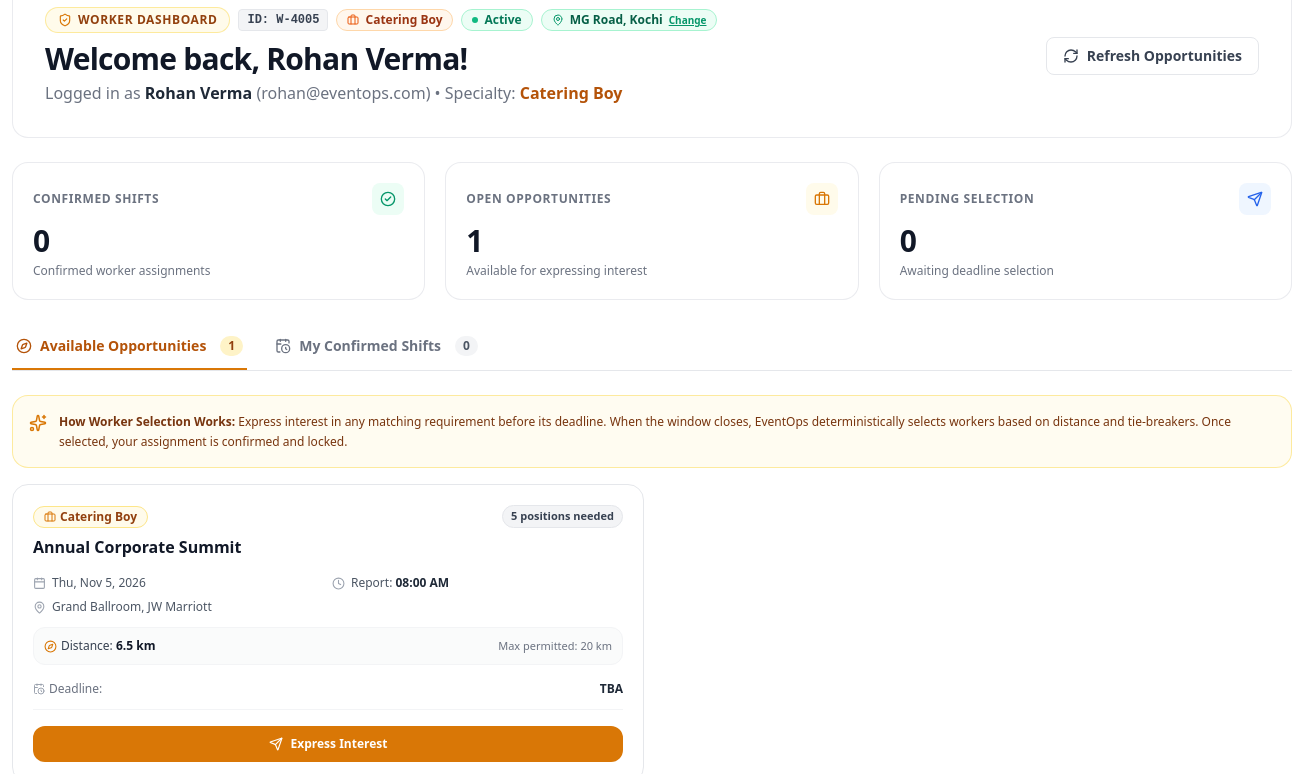
Scenario: Worker Selection Engine Frontend UI Tests › WorkerDashboard Opportunity & Express Interest › allows a worker to express interest in an open opportunity
The width and height of the screenshot is (1292, 774).
Check: the heading "Annual Corporate Summit" is shown, box [33,535,241,559]
Click the button "Express Interest". click: click(328, 744)
box: [33,726,623,762]
(page scrolled)
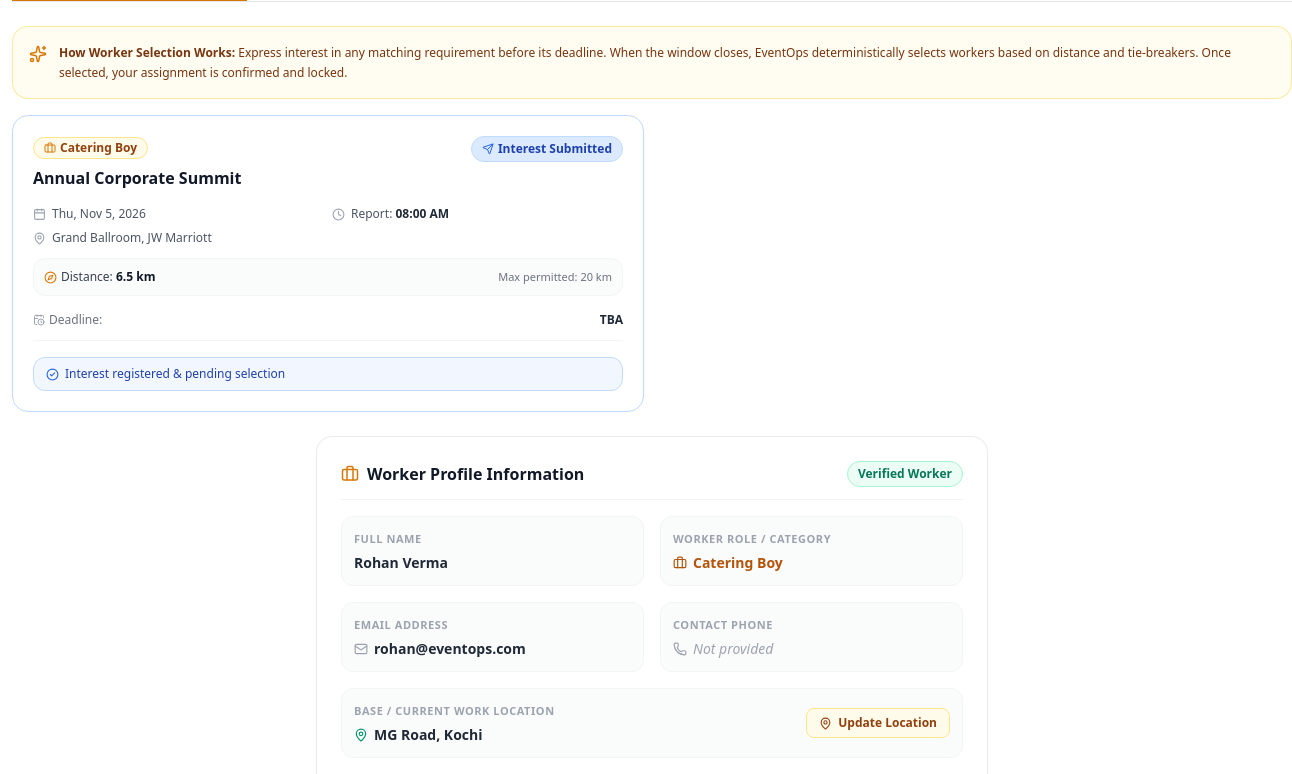
Check: the text "Interest registered & pending selection" is shown, box [46,366,285,382]
